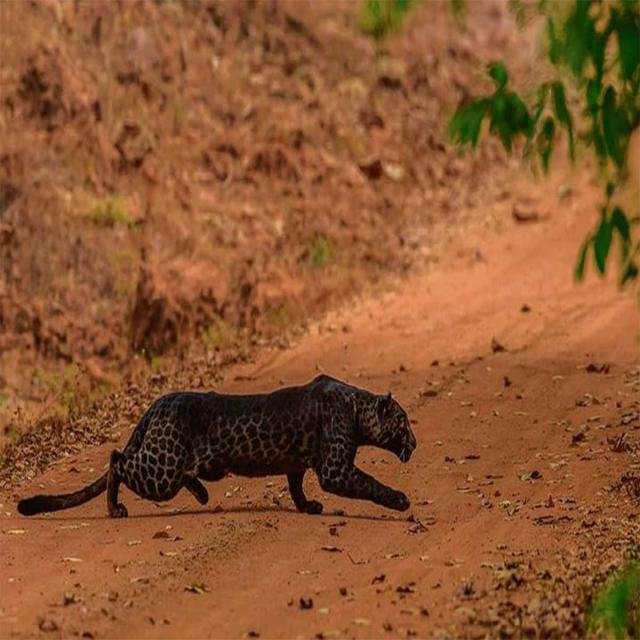Leopard: (14, 374, 418, 514)
